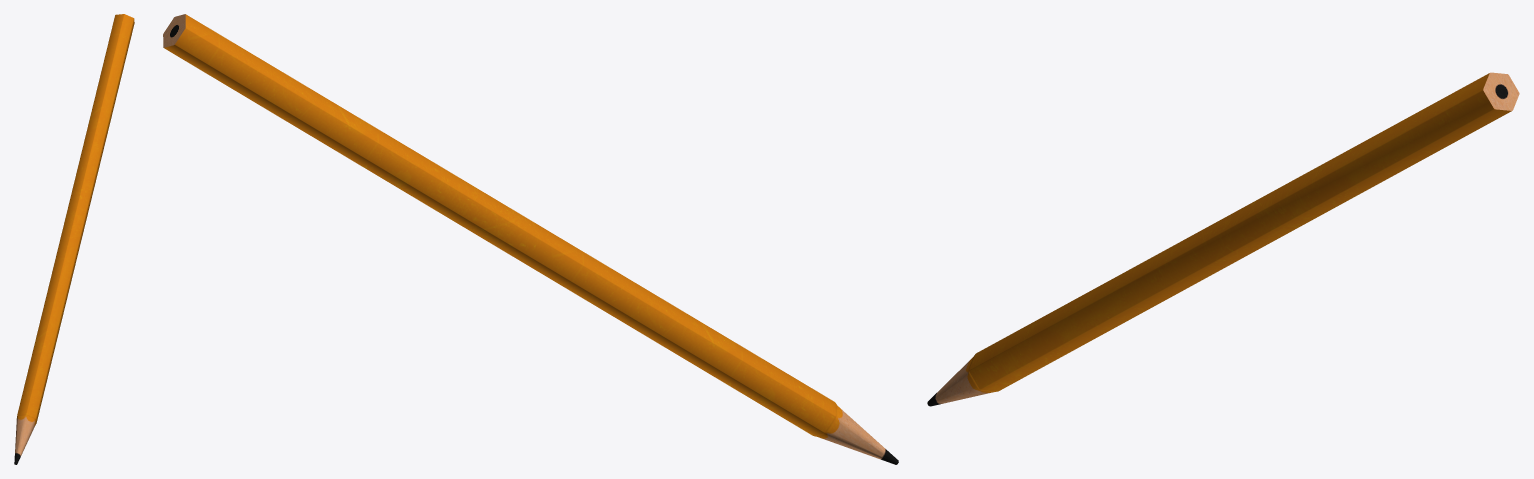
File: cc0_-_pencil_1k.glb
3 views of the same model, side by side, from view 1: azimuth 30°, elevation 25°; view 2: azimuth 150°, elevation 25°; view 3: azimuth 270°, elevation 25° (orthographic). The views are drawn at different scales.
Parts seen in each view (by area): view 1: Pencil; view 2: Pencil; view 3: Pencil.
Boxes of the visible parts, x1,y1,x2,y2 form: Pencil: [14, 14, 134, 464]; Pencil: [163, 14, 898, 464]; Pencil: [927, 72, 1519, 406].
Size of the model in its own units: 0.0988 by 0.1042 by 0.0971.
Materials: 1 (1 with a texture image).
